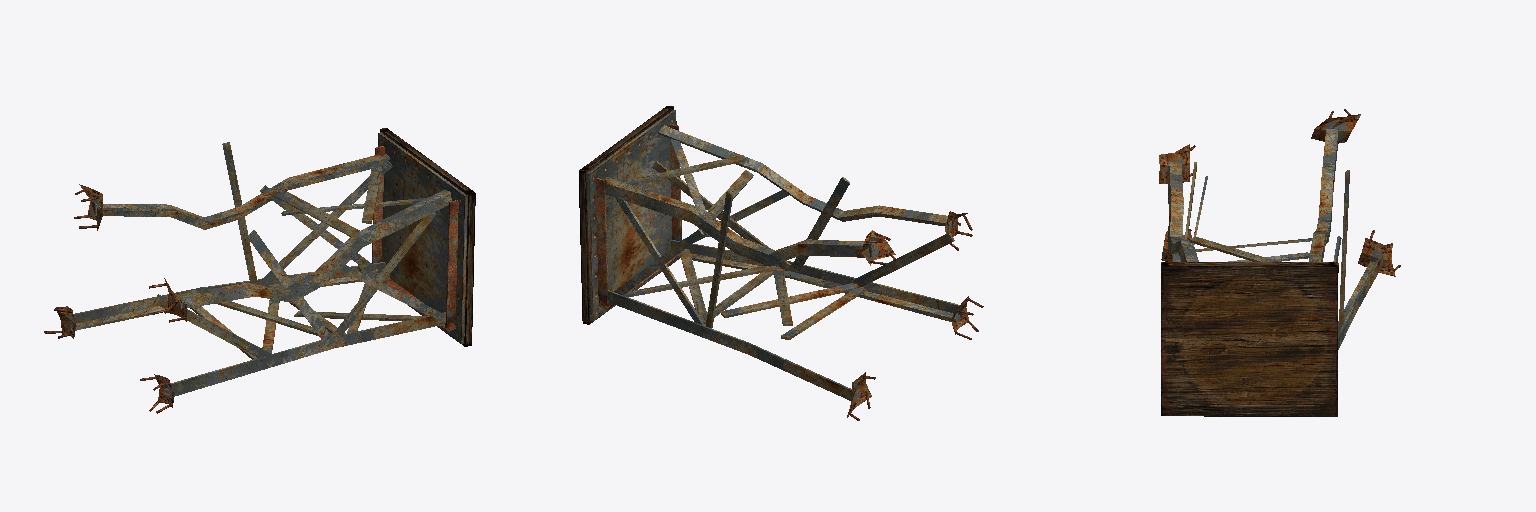
3 renders of one model, left to right at view 1: azimuth 30°, elevation 25°; view 2: azimuth 150°, elevation 25°; view 3: azimuth 270°, elevation 25°, orthographic.
Parts seen in each view (by area): view 1: Sbasetower00-00.Sbasetower00-00_Sbasetower00-00; view 2: Sbasetower00-00.Sbasetower00-00_Sbasetower00-00; view 3: Sbasetower00-00.Sbasetower00-00_Sbasetower00-00.
Part boxes in pixels (left/top/right/bottom): Sbasetower00-00.Sbasetower00-00_Sbasetower00-00: left=44, top=128, right=475, bottom=413; Sbasetower00-00.Sbasetower00-00_Sbasetower00-00: left=579, top=106, right=983, bottom=420; Sbasetower00-00.Sbasetower00-00_Sbasetower00-00: left=1159, top=109, right=1400, bottom=416.
Bounding box in the file's own units: 2 × 1.04 × 1.31.
Materials: 11 (11 with a texture image).